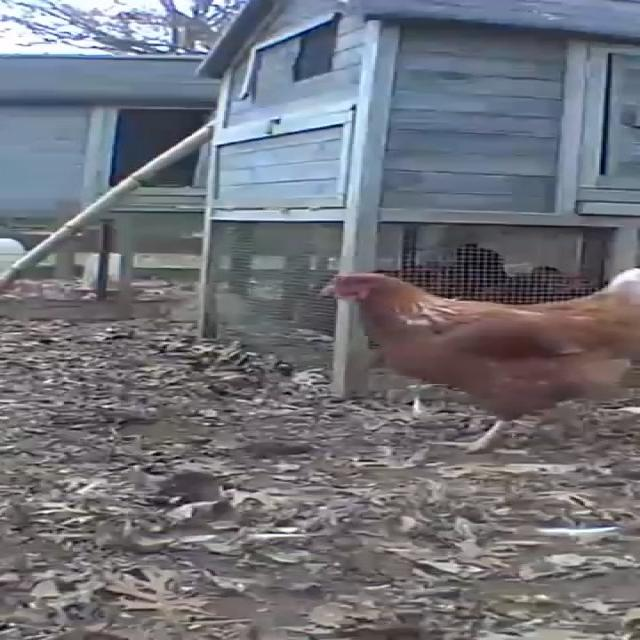walking: (291, 250, 640, 458)
